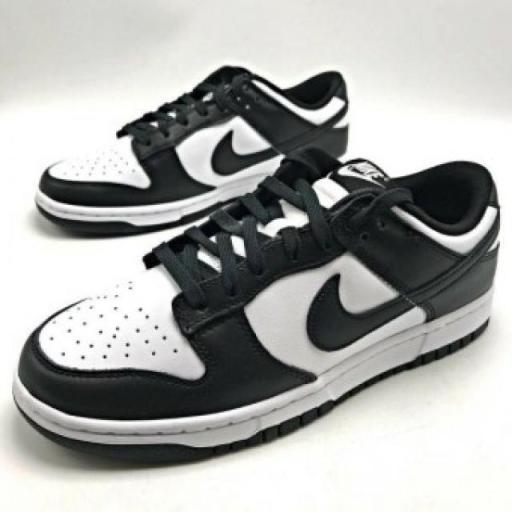Nike: (300, 268, 472, 355)
